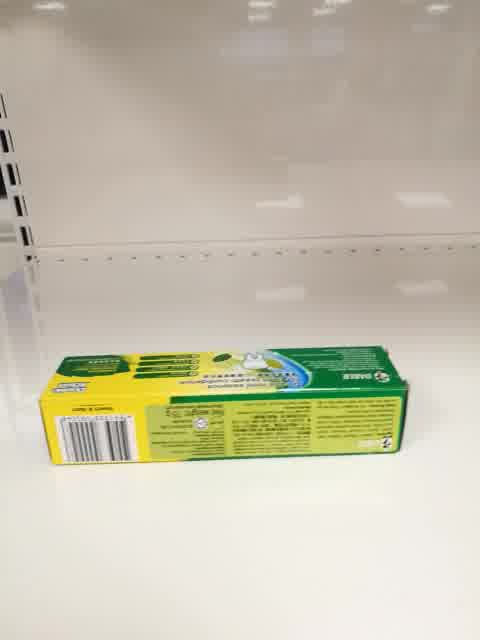toothpaste: (37, 345, 411, 468)
